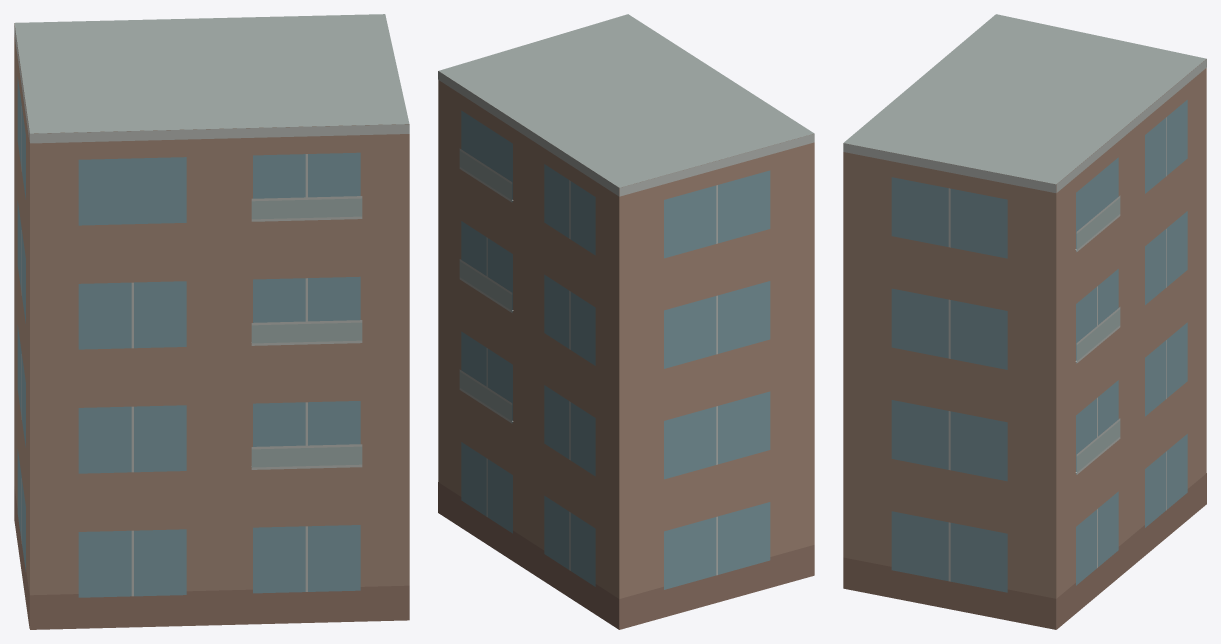
File: survey-upis-32727147.glb
3 renders of one model, left to right at view 1: azimuth 30°, elevation 25°; view 2: azimuth 150°, elevation 25°; view 3: azimuth 270°, elevation 25°, orthographic. The views are drawn at different scales.
Parts seen in each view (by area): view 1: survey-upis-32727147.tmp; view 2: survey-upis-32727147.tmp; view 3: survey-upis-32727147.tmp.
Part boxes in pixels (x1,y1,x2,y2): survey-upis-32727147.tmp: (14,14,409,629); survey-upis-32727147.tmp: (438,14,814,629); survey-upis-32727147.tmp: (843,14,1206,629).
Bounding box in the file's own units: 10.02 × 12.2 × 9.03.
